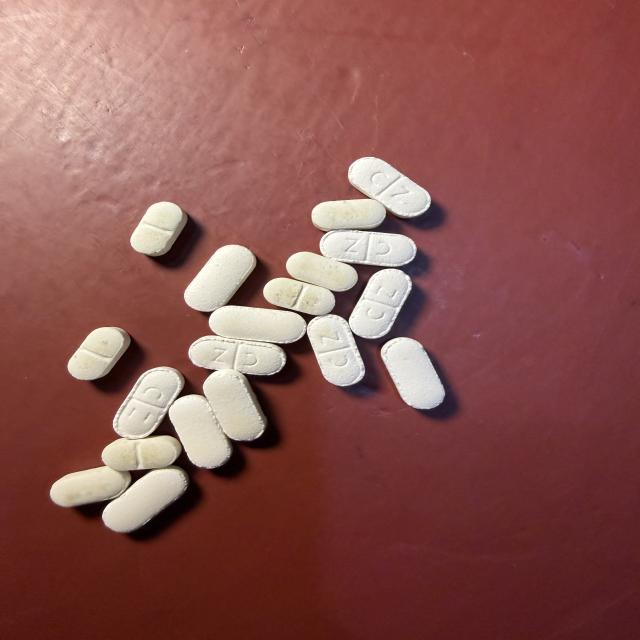pill: (103, 466, 188, 532), (114, 367, 184, 439), (348, 157, 430, 218), (185, 245, 256, 311), (169, 395, 231, 468), (381, 338, 444, 409), (203, 370, 266, 440), (349, 269, 412, 338), (308, 315, 364, 386), (189, 336, 286, 375), (209, 306, 306, 343), (320, 230, 416, 266), (68, 327, 130, 379), (50, 467, 131, 506), (131, 202, 187, 256), (286, 252, 357, 291), (102, 436, 181, 470), (264, 278, 335, 315), (312, 199, 386, 231)
